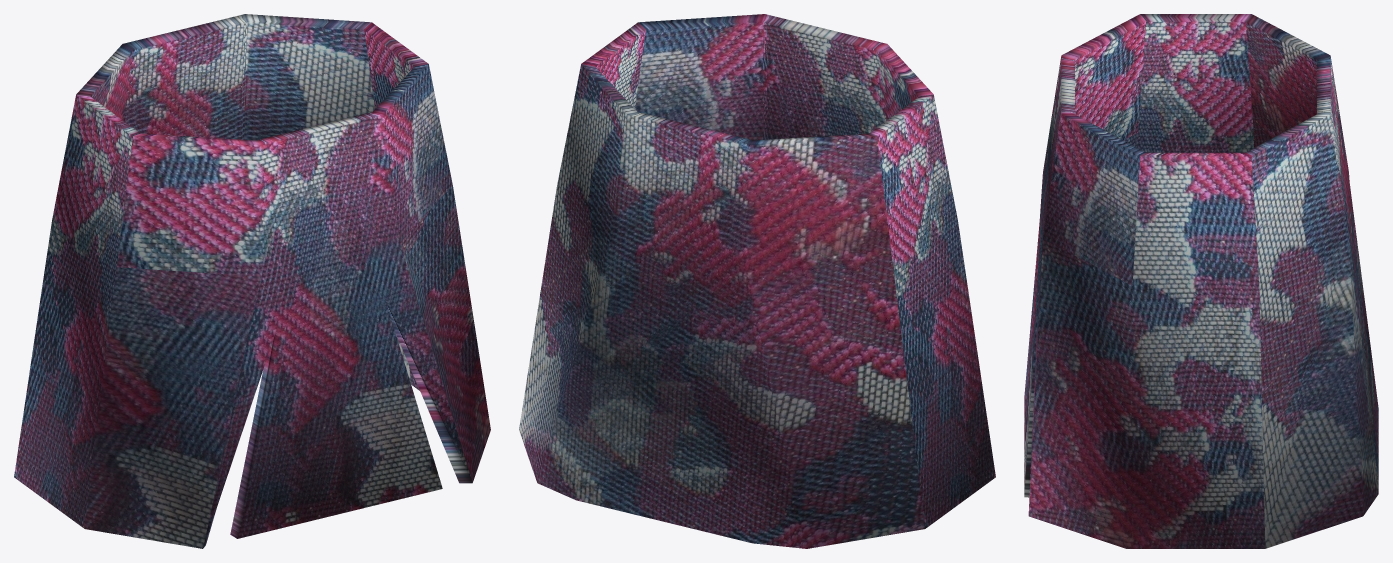
Rendered from FinalSkirt.gltf.
3 views of the same model, side by side, from view 1: azimuth 30°, elevation 25°; view 2: azimuth 150°, elevation 25°; view 3: azimuth 270°, elevation 25° (orthographic).
Visible parts, largest first — view 1: Cylinder; view 2: Cylinder; view 3: Cylinder.
Boxes of the visible parts, left/top/right/bottom form: Cylinder: left=14, top=14, right=490, bottom=548; Cylinder: left=519, top=14, right=995, bottom=548; Cylinder: left=1024, top=14, right=1378, bottom=548.
Size of the model in its own units: 0.4628 by 0.41 by 0.3568.
1 material, 1 textured.
